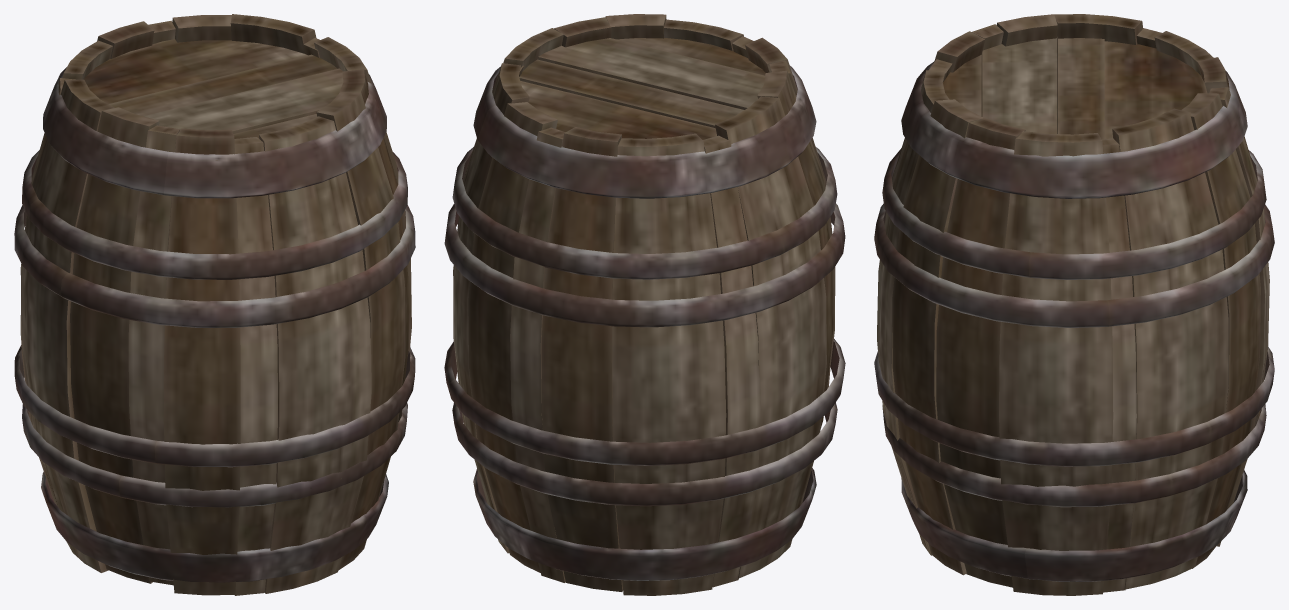
File: t2_barrel_wooden01.glb
The picture shows the model from 3 angles, left to right: view 1: azimuth 30°, elevation 25°; view 2: azimuth 150°, elevation 25°; view 3: azimuth 270°, elevation 25°; orthographic projection.
Parts seen in each view (by area): view 1: global_props_roughwood_barrel_02_a; view 2: global_props_roughwood_barrel_02_a; view 3: global_props_roughwood_barrel_02_a.
Part boxes in pixels (x1,y1,x2,y2): global_props_roughwood_barrel_02_a: (14, 14, 415, 595); global_props_roughwood_barrel_02_a: (444, 14, 845, 595); global_props_roughwood_barrel_02_a: (874, 14, 1274, 595).
Bounding box in the file's own units: 1.59 × 2.02 × 1.59.
1 material, 1 textured.
